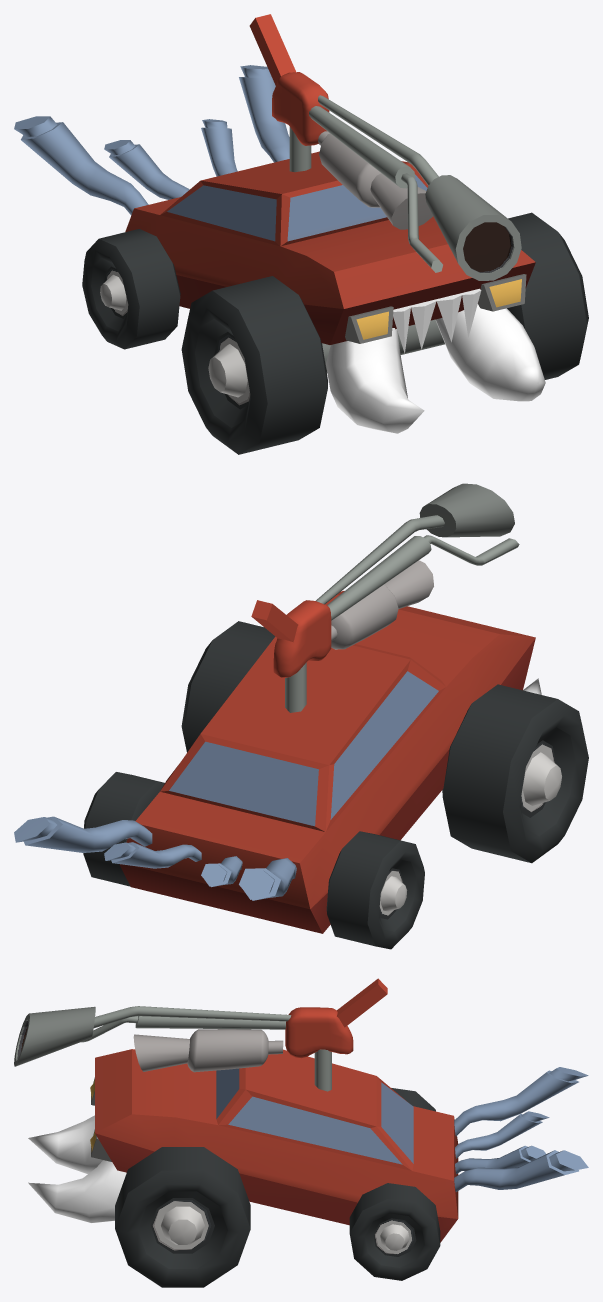
File: FireCar.fbx
The picture shows the model from 3 angles, top to bottom: view 1: azimuth 30°, elevation 25°; view 2: azimuth 150°, elevation 25°; view 3: azimuth 270°, elevation 25°; orthographic projection. The views are drawn at different scales.
Parts seen in each view (by area): view 1: Body, Wheel, FlameThrower, Wheel1; view 2: Body, Wheel, FlameThrower, Wheel1; view 3: Body, FlameThrower, Wheel, Wheel1.
Part boxes in pixels (x1,y1,x2,y2): Body: (14, 65, 545, 433); Wheel: (181, 212, 588, 454); FlameThrower: (249, 14, 521, 280); Wheel1: (82, 229, 180, 349); Body: (14, 591, 541, 933); Wheel: (181, 621, 588, 863); FlameThrower: (251, 483, 519, 712); Wheel1: (83, 772, 424, 949); Body: (28, 1049, 588, 1242); FlameThrower: (14, 978, 387, 1091); Wheel: (115, 1147, 250, 1287); Wheel1: (349, 1088, 440, 1280).
Bounding box in the file's own units: 7.68 × 6.4 × 13.71.
